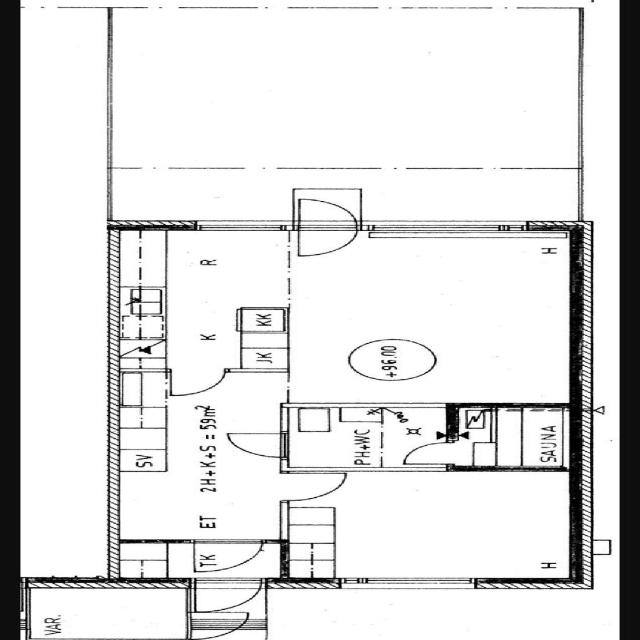door: (22, 584, 188, 638), (291, 194, 360, 260), (180, 574, 268, 616), (274, 467, 355, 504), (187, 537, 267, 574), (219, 428, 296, 461), (396, 437, 467, 468), (162, 368, 230, 398), (184, 612, 252, 640)
window: (332, 572, 481, 595), (370, 220, 540, 240), (189, 220, 286, 234)
zone: (102, 9, 572, 168), (294, 228, 578, 401), (284, 467, 584, 583), (121, 228, 291, 371), (21, 583, 192, 638), (454, 404, 572, 469), (327, 572, 475, 596)
